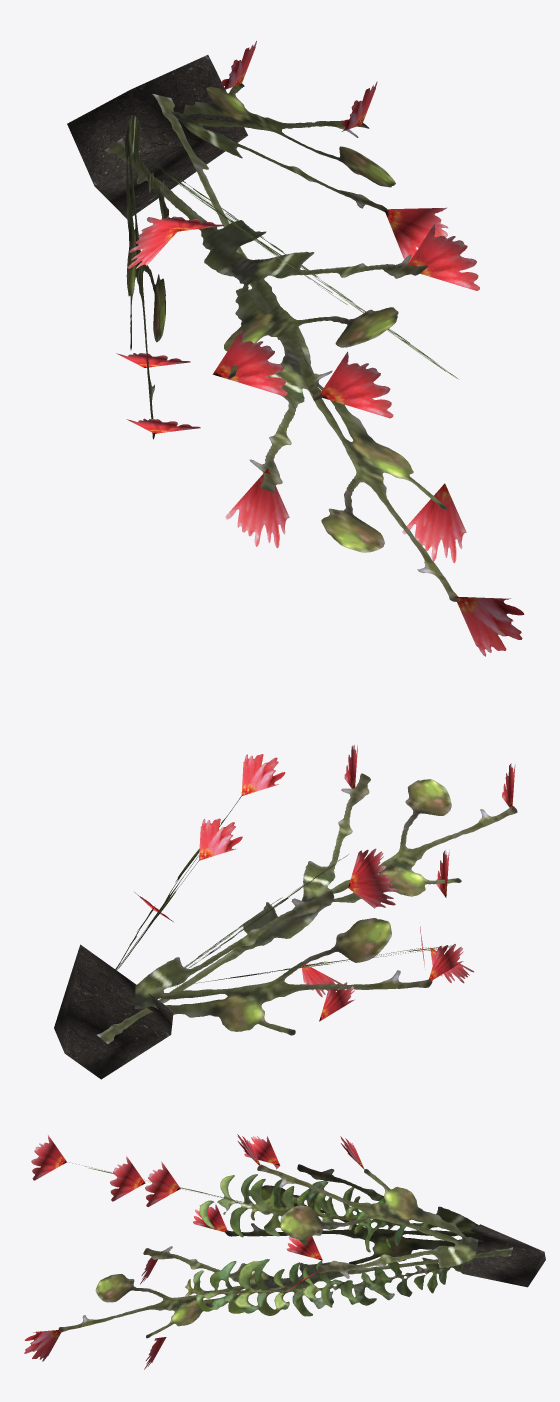
File: com_flower_red2_LOD2.obj
The picture shows the model from 3 angles, top to bottom: view 1: azimuth 30°, elevation 25°; view 2: azimuth 150°, elevation 25°; view 3: azimuth 270°, elevation 25°; orthographic projection. The views are drawn at different scales.
Visible parts, largest first — view 1: mtl_gardenflowers, mtl_plastic_bucket_soil; view 2: mtl_gardenflowers, mtl_plastic_bucket_soil; view 3: mtl_gardenflowers, mtl_plastic_bucket_soil.
Boxes of the visible parts, x1,y1,x2,y2 form: mtl_gardenflowers: (105,41,524,656); mtl_plastic_bucket_soil: (67,55,247,218); mtl_gardenflowers: (70,745,517,1043); mtl_plastic_bucket_soil: (54,944,173,1079); mtl_gardenflowers: (24,1134,512,1369); mtl_plastic_bucket_soil: (458,1224,545,1287).
Bounding box in the file's own units: 29.99 × 31.66 × 55.48.
